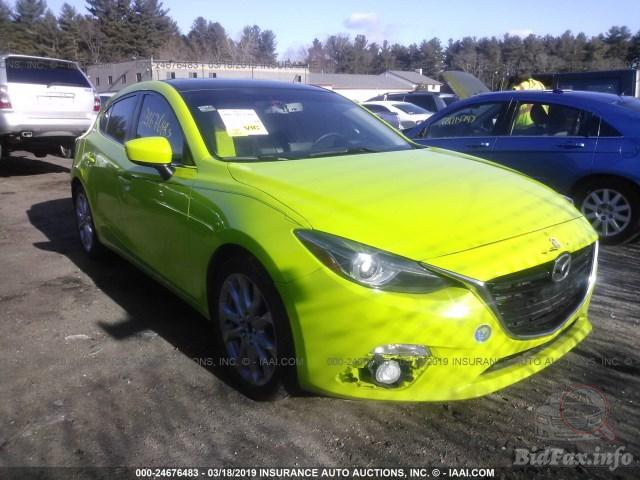Mazda3 Hatchback: (67, 70, 603, 410)
